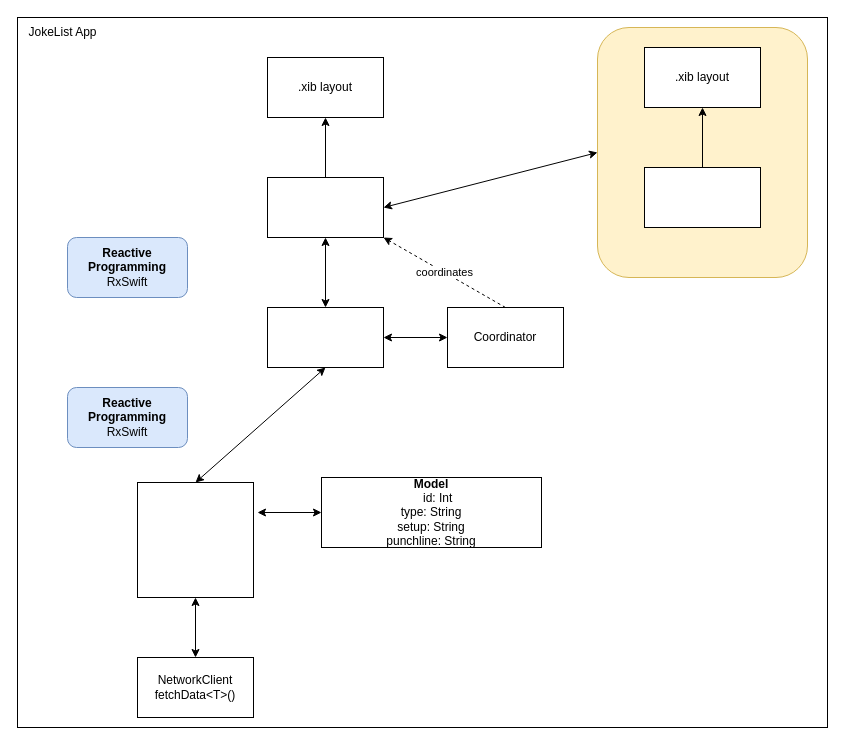
This 845x745 diagram has some shape labels left out. Each missing label, with the box of its shape:
Repository ContentRepository fetchJokeList() fetchJoke(id): (136, 482, 254, 598)
UICollectionViewCell: (644, 166, 760, 228)
ViewController: (266, 176, 384, 238)
ViewModel: (266, 306, 384, 368)
